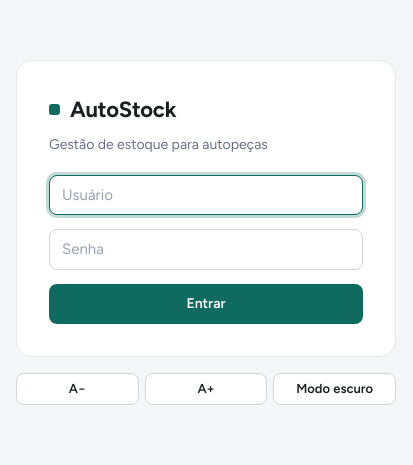
Scenario: Login › exibe erro quando usuário ou senha são inválidos
This screenshot has width=413, height=465.
Type "usuario" into the field with placeholder "Usuário".
click(206, 195); type("usuario")  # box [49,174,363,215]
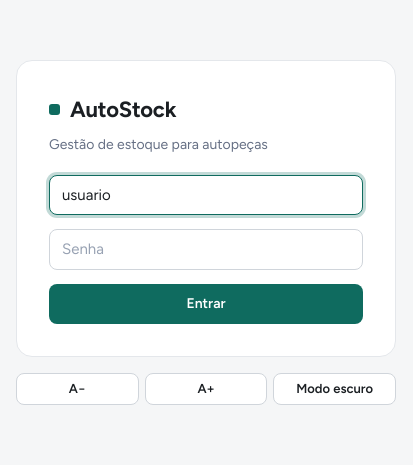
Type "senha-errada" into the password field with placeholder "Senha".
click(206, 249); type("senha-errada")  # box [49,229,363,270]
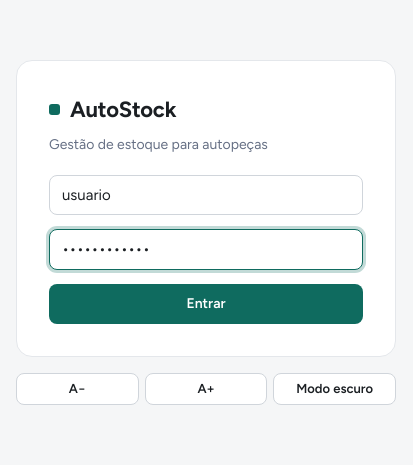
Click the button "Entrar".
click(206, 304)  # box [49,284,363,324]
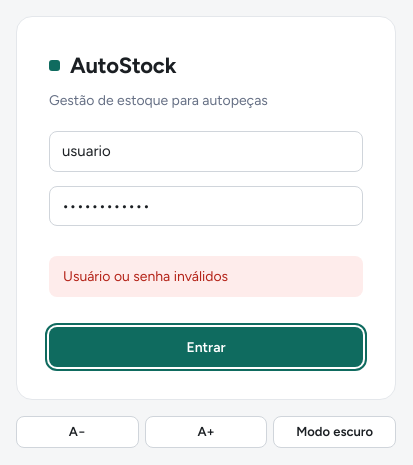
Now the text "Usuário ou senha inválidos" is shown, box [49,256,363,297]
